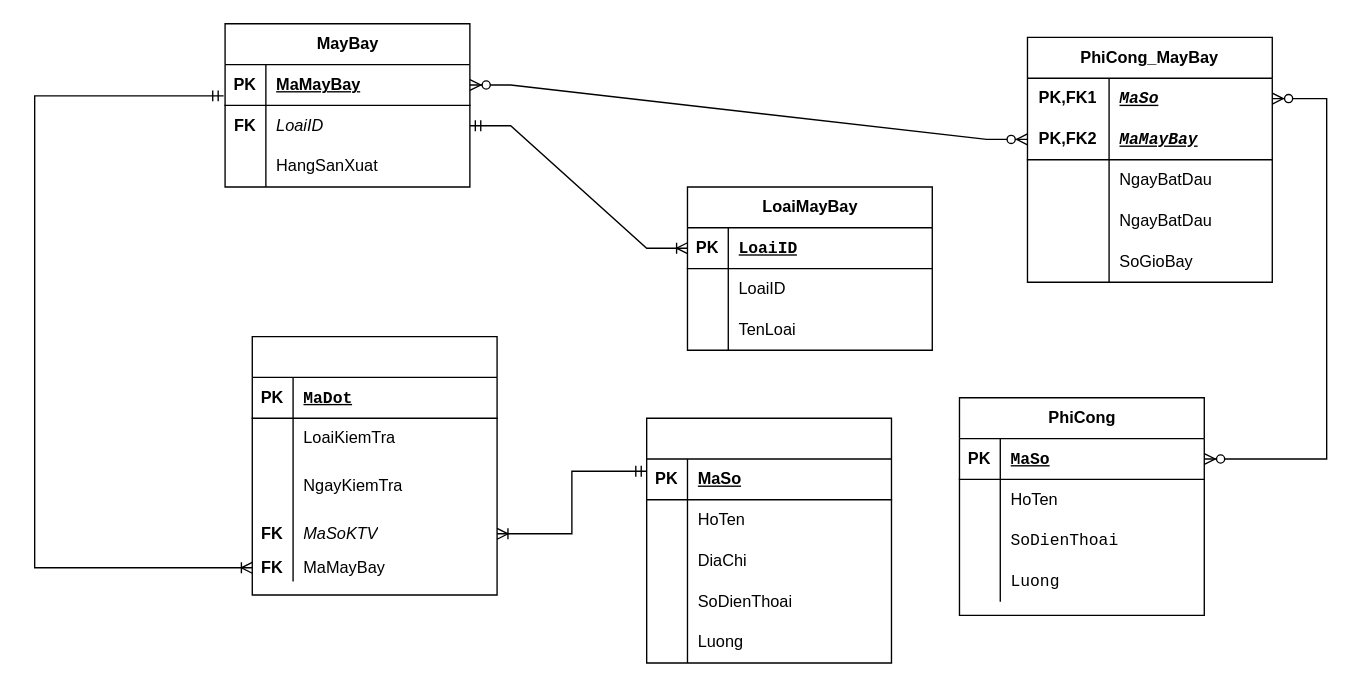
This 1363x687 diagram has some shape labels left out. Each missing label, with the box of its shape:
KiemTraMayBay: (251, 335, 497, 595)
KyThuatVien: (645, 417, 891, 663)
